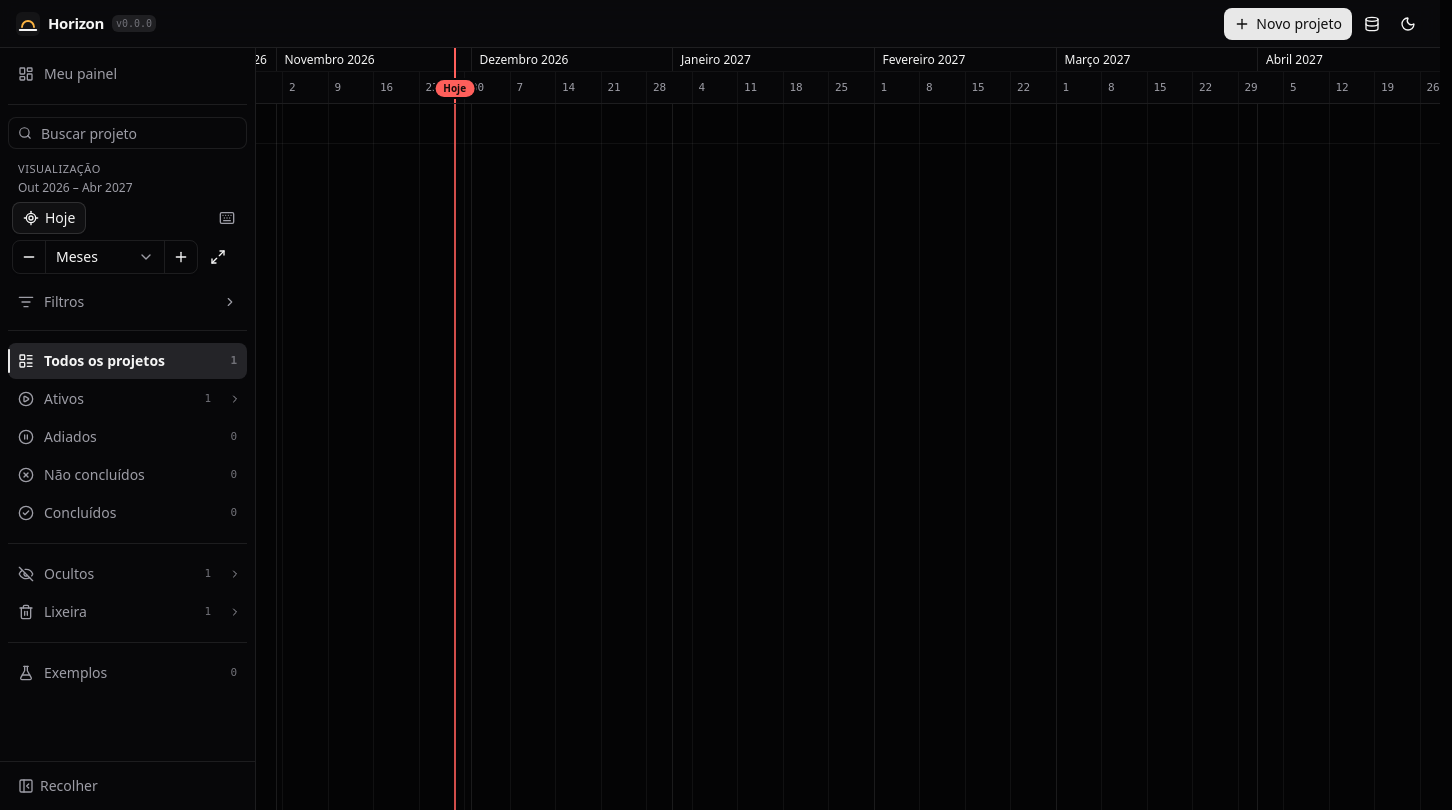
Meu painel › is reached from the sidebar and counts hidden projects but not the trash
Click the link "Meu painel" at (68, 74), box [18,64,117,83]
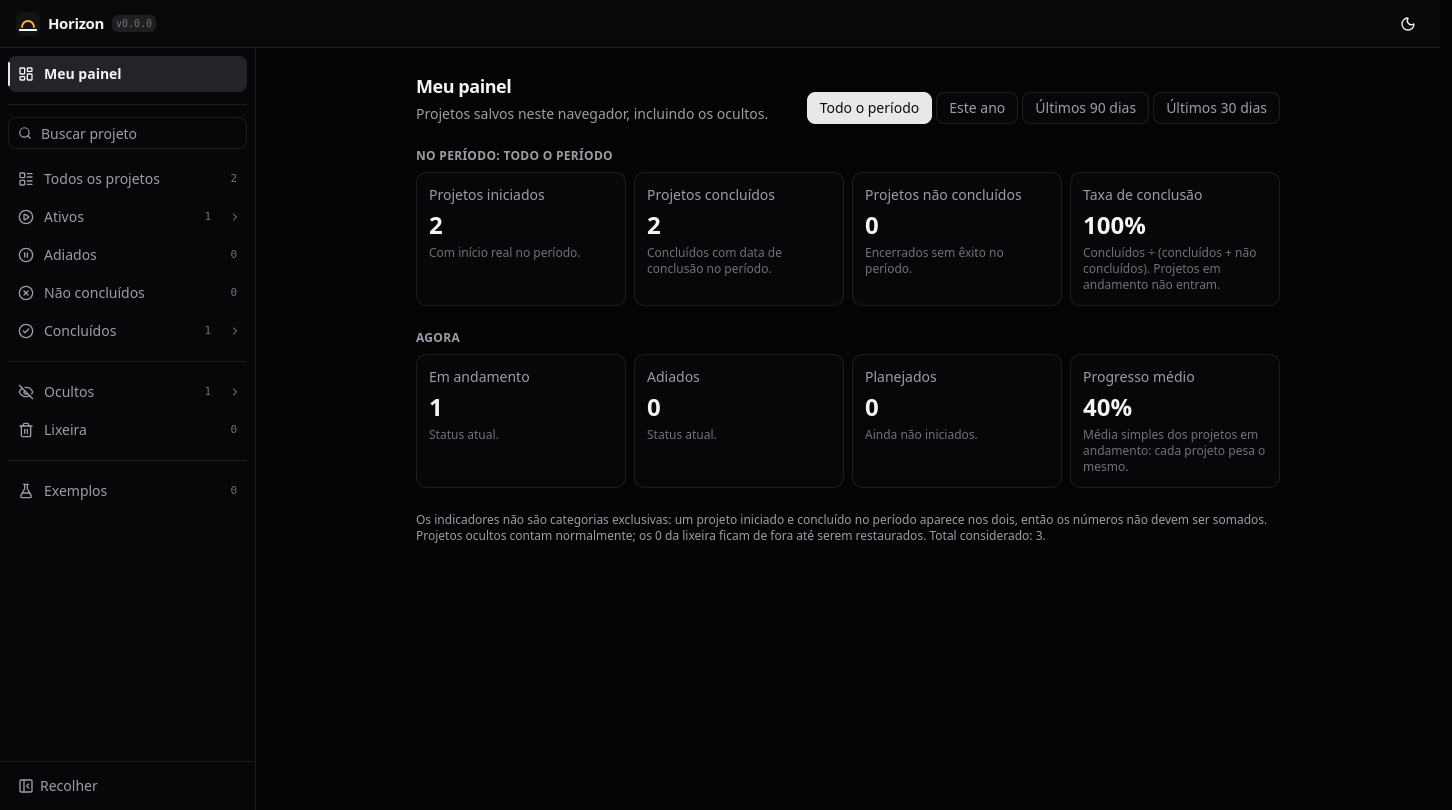
Now the heading "Meu painel" is shown, box [416,74,511,98]
Now the text "os 1 da lixeira ficam de fora" is shown, box [416,512,1280,544]
